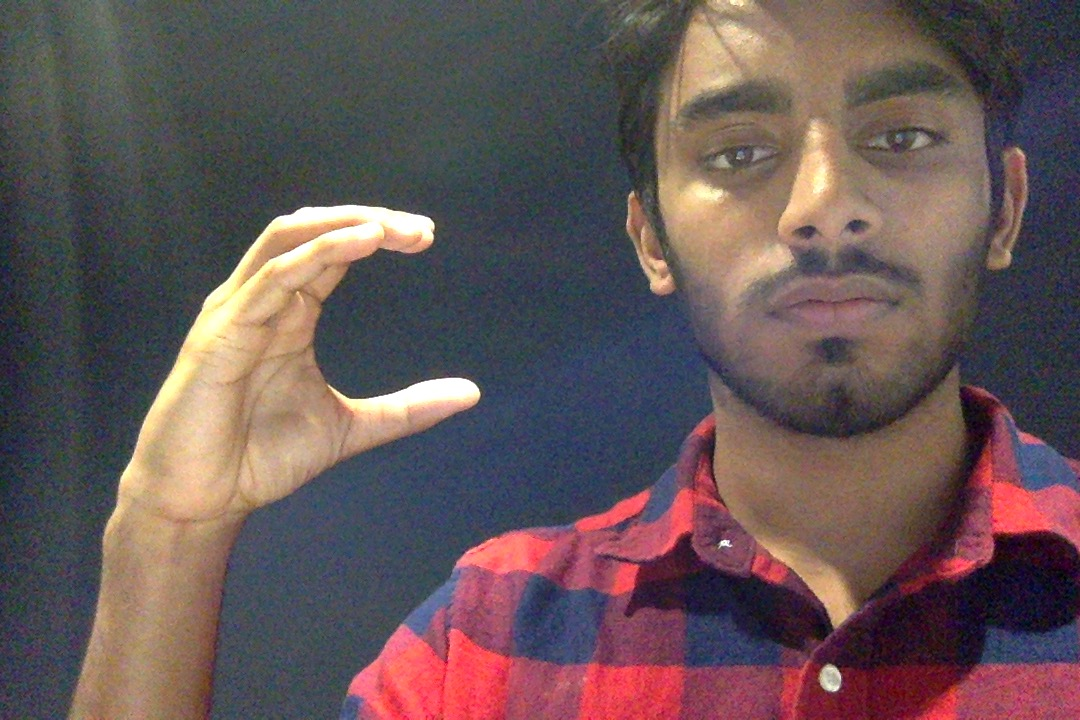c: (78, 195, 488, 547)
